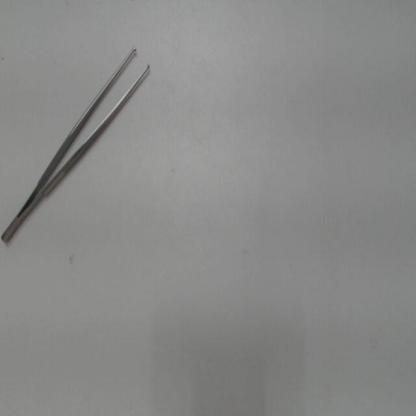Gillies Toothed Dissector: (0, 43, 170, 249)
